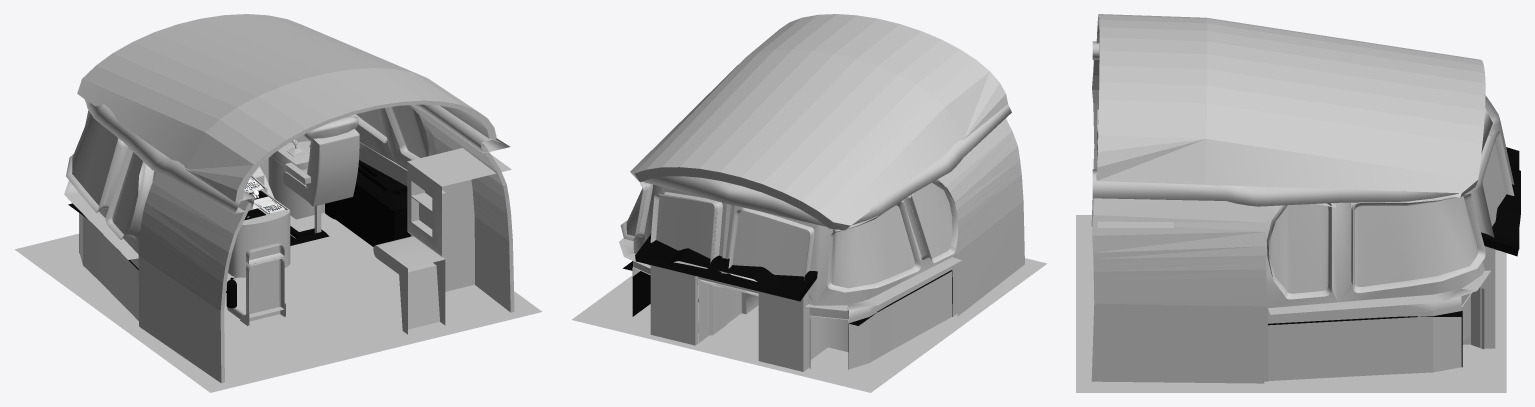
The model's file is cockpit portfolio2.fbx.
3 renders of one model, left to right at view 1: azimuth 30°, elevation 25°; view 2: azimuth 150°, elevation 25°; view 3: azimuth 270°, elevation 25°, orthographic. The views are drawn at different scales.
Visible parts, largest first — view 1: CockpitShell, RoofUnwrap, Chair/door1, Windows, ControlPanels; view 2: RoofUnwrap, CockpitShell, Chair/door1, Windows; view 3: RoofUnwrap, CockpitShell, Windows, Chair/door1.
Part boxes in pixels (x1,y1,x2,y2): CockpitShell: [64, 105, 514, 383]; RoofUnwrap: [77, 14, 510, 213]; Chair/door1: [14, 116, 542, 392]; Windows: [72, 105, 428, 234]; ControlPanels: [244, 177, 284, 220]; RoofUnwrap: [630, 14, 1011, 230]; CockpitShell: [619, 118, 1024, 369]; Chair/door1: [572, 258, 1047, 392]; Windows: [626, 183, 952, 288]; RoofUnwrap: [1092, 14, 1492, 207]; CockpitShell: [1091, 60, 1520, 383]; Windows: [1270, 135, 1506, 293]; Chair/door1: [1076, 109, 1506, 392].
Bounding box in the file's own units: 4.21 × 2.91 × 4.45.
